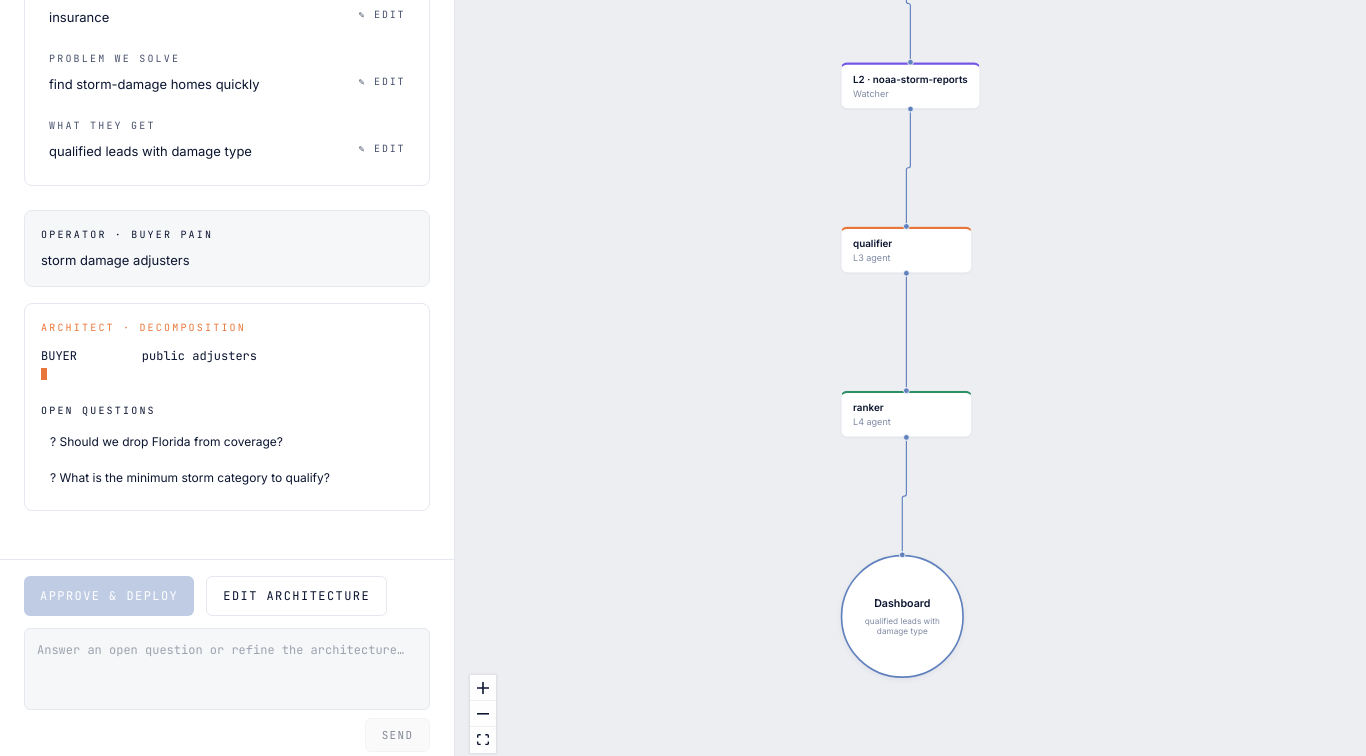
Test: <ArchitectThinking /> — conversation loop › appends operator + architect messages to the thread on each turn
(page scrolled)
Check: the text "BUYER public adjusters" is shown, box left=41, top=348, right=257, bottom=364
Check: the number of elements with test id "architect-message" is 1, box left=24, top=303, right=430, bottom=511
Send an operator turn.
In the text box with test id "architect-composer": [227, 669] box left=24, top=628, right=430, bottom=710, type "drop Florida"
(page scrolled)
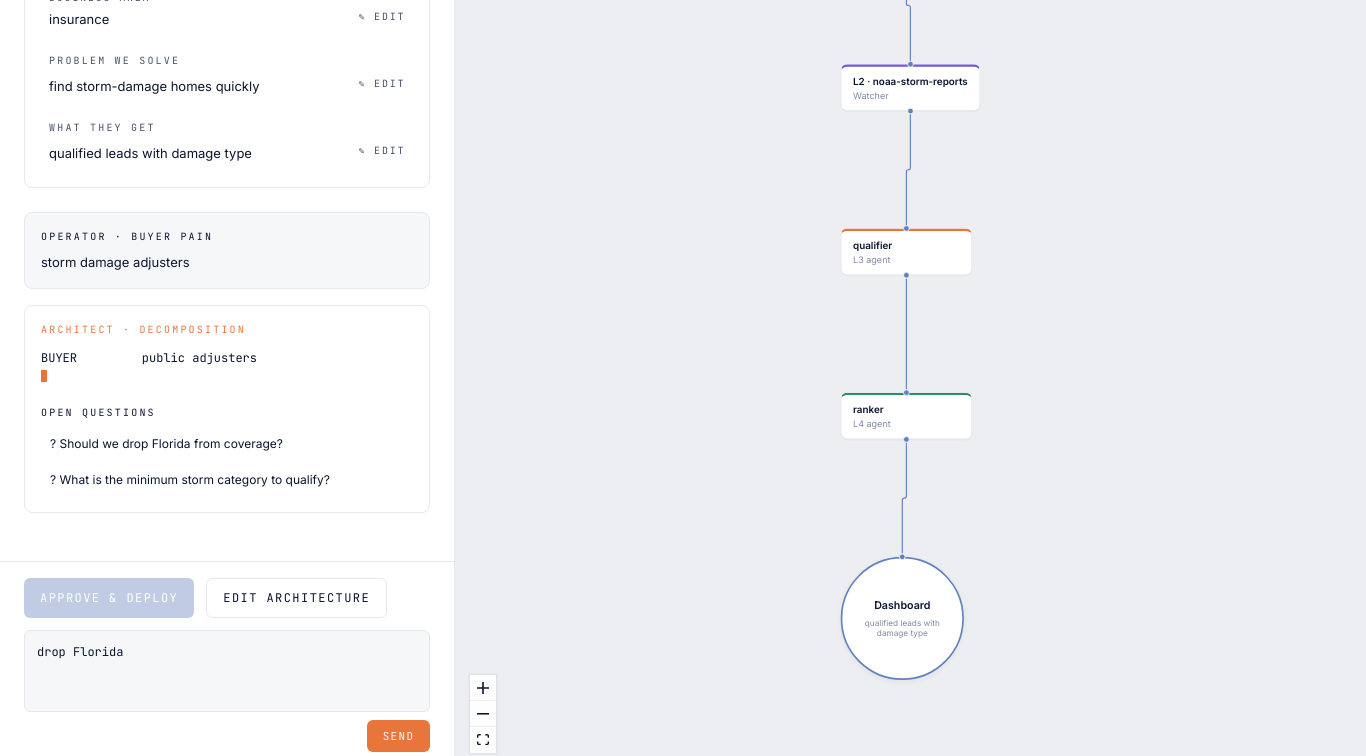
Click the button with test id "architect-composer-send": [398, 736] box left=367, top=720, right=430, bottom=752
(page scrolled)
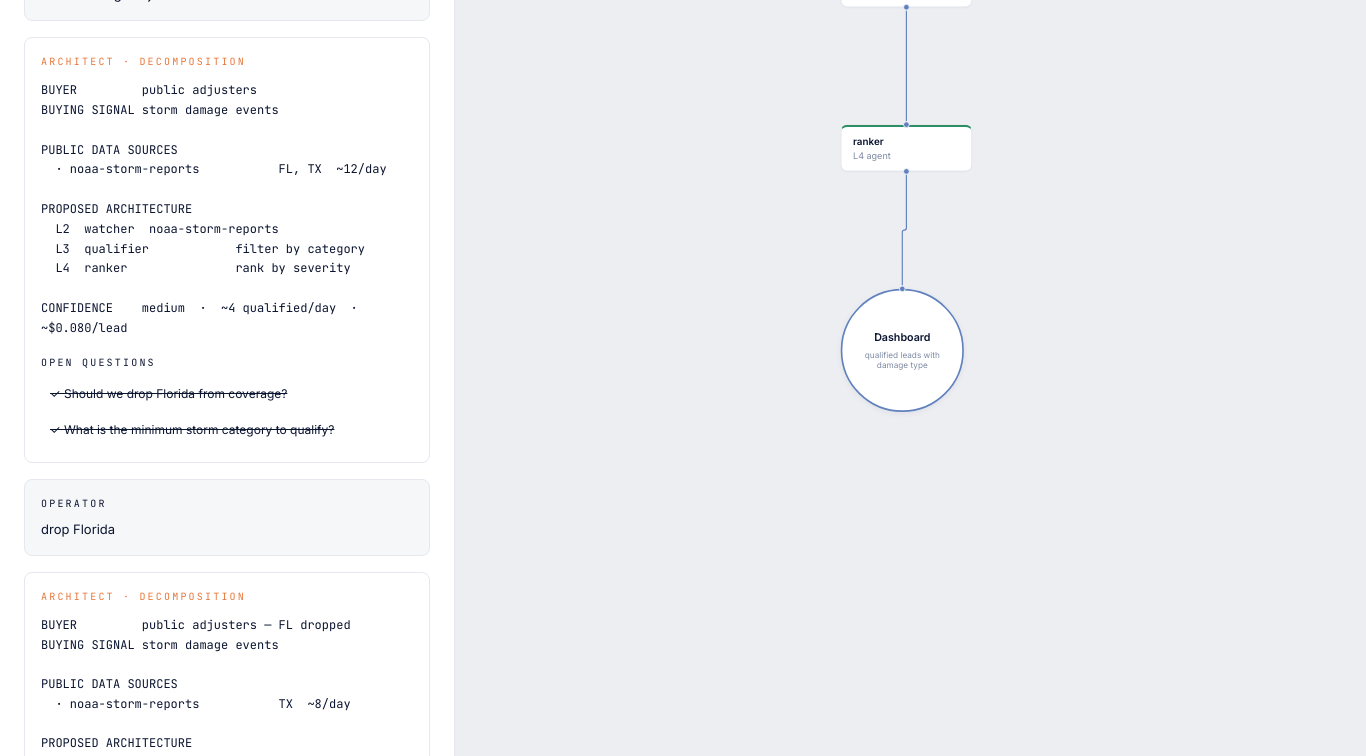
Check: the element with test id "operator-message" shows "drop Florida", box left=41, top=521, right=115, bottom=537
